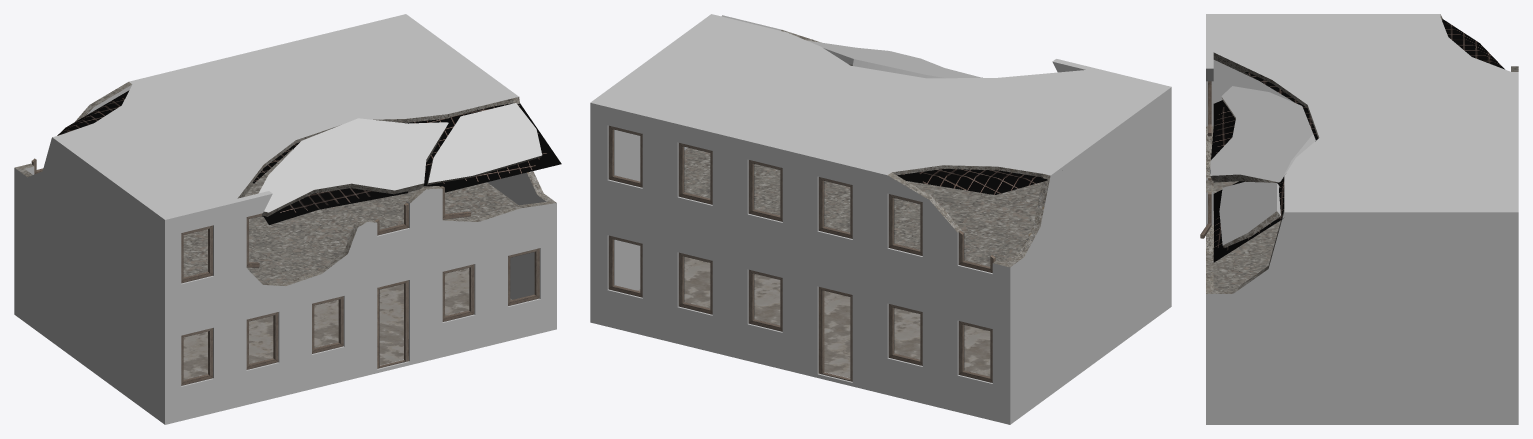
Rendered from Building_F_Destroyed.fbx.
3 views of the same model, side by side, from view 1: azimuth 30°, elevation 25°; view 2: azimuth 150°, elevation 25°; view 3: azimuth 270°, elevation 25° (orthographic). The views are drawn at different scales.
Parts seen in each view (by area): view 1: Walls, Rooftop, Floor_Center, Floor_Ground, Windows, Rebar, Broken_Concrete; view 2: Walls, Rooftop, Floor_Center, Windows, Floor_Ground, Rebar, Broken_Concrete; view 3: Walls, Rooftop, Rebar, Broken_Concrete, Floor_Center, Windows.
Boxes of the visible parts, box(x1,y1,x2,y2) form: Walls: box(14, 14, 556, 424); Rooftop: box(59, 18, 542, 215); Floor_Center: box(183, 149, 518, 283); Floor_Ground: box(183, 268, 512, 379); Windows: box(31, 158, 539, 385); Rebar: box(57, 90, 561, 224); Broken_Concrete: box(15, 82, 556, 285); Walls: box(590, 14, 1171, 424); Rooftop: box(601, 15, 1160, 173); Floor_Center: box(684, 147, 1041, 266); Windows: box(608, 125, 995, 382); Floor_Ground: box(638, 256, 990, 378); Rebar: box(897, 169, 1047, 194); Broken_Concrete: box(781, 30, 1050, 267); Walls: box(1206, 14, 1518, 424); Rooftop: box(1210, 17, 1510, 245); Rebar: box(1210, 19, 1504, 262); Broken_Concrete: box(1206, 14, 1518, 293); Floor_Center: box(1213, 181, 1280, 290); Windows: box(1200, 81, 1211, 238).
Bounding box in the file's own units: 1226 × 612 × 815.
